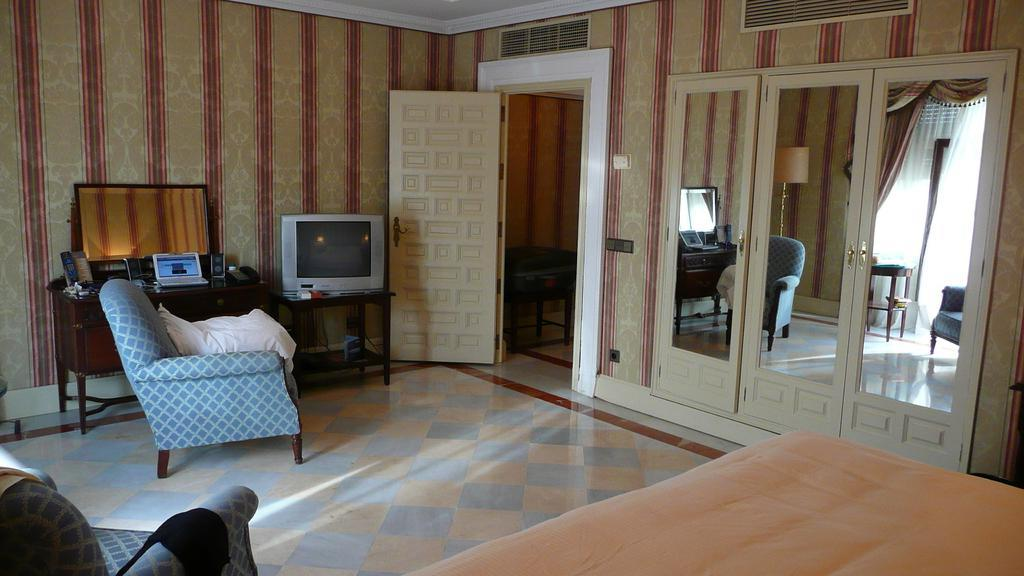door: (862, 70, 996, 434), (751, 77, 869, 423), (659, 78, 759, 392), (388, 93, 498, 364)
handle: (388, 210, 404, 248)
